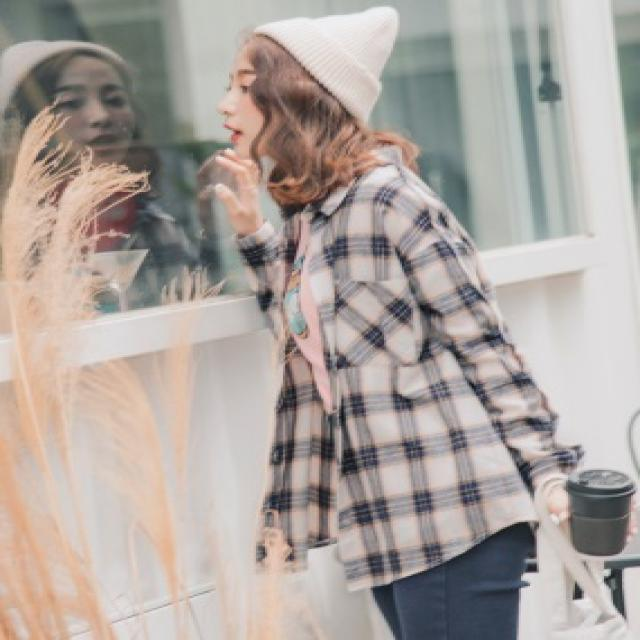plaid: (192, 164, 584, 565)
